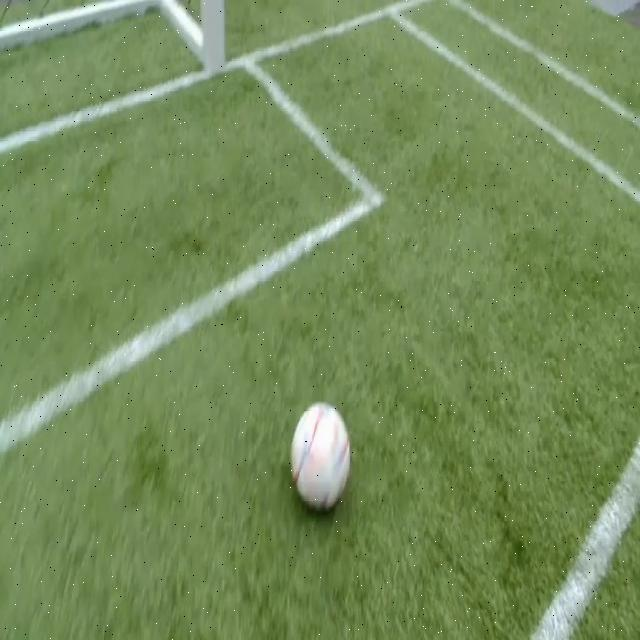ball: (291, 401, 350, 511)
goalpost: (195, 0, 231, 79)
